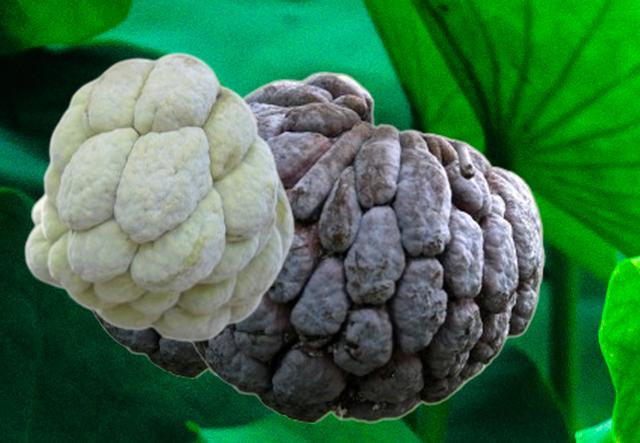atis: (186, 70, 544, 422), (23, 51, 294, 341), (87, 84, 223, 377)
